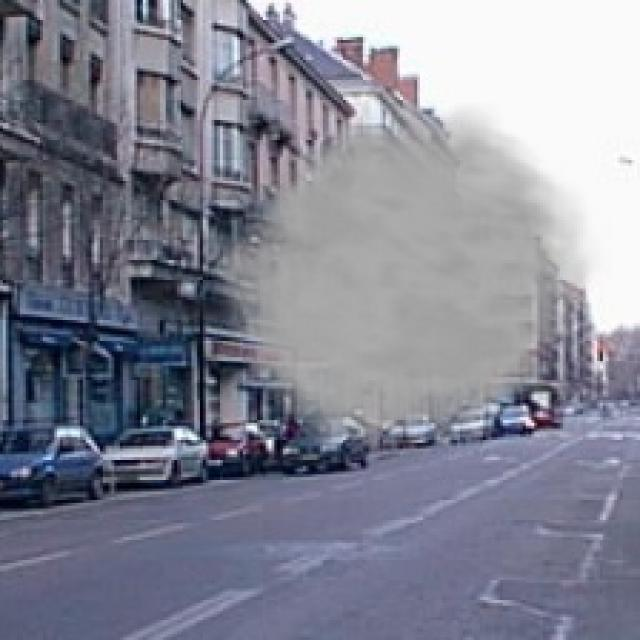Smoke: (203, 103, 612, 460)
